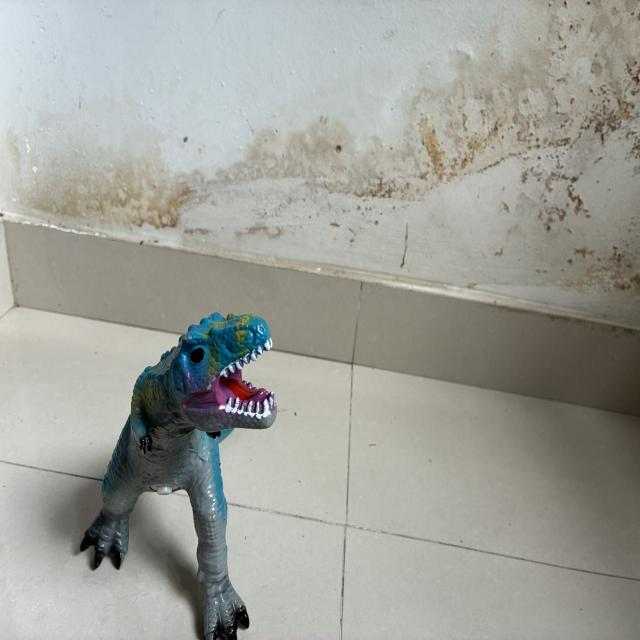dinosaur: (80, 313, 277, 640)
